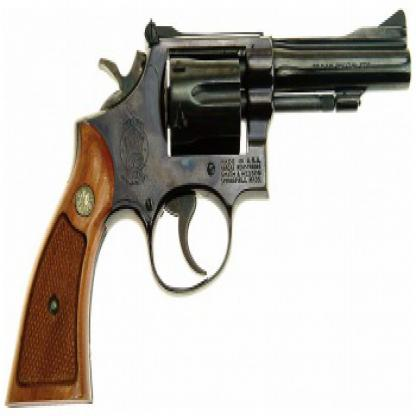Guns: (2, 6, 415, 414)
